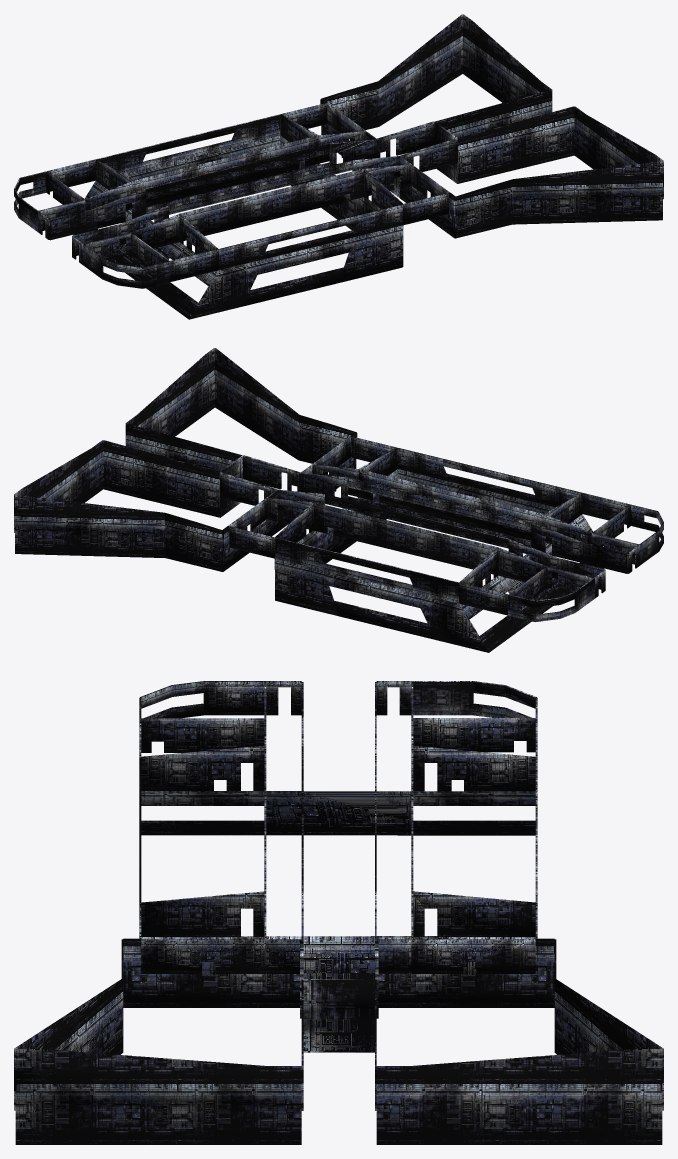
File: mothershipwalls1.glb
3 renders of one model, top to bottom at view 1: azimuth 30°, elevation 25°; view 2: azimuth 150°, elevation 25°; view 3: azimuth 270°, elevation 25°, orthographic. The views are drawn at different scales.
Visible parts, largest first — view 1: Interiorwalls2-col, Interiorwalls2-col.001, Interiorwalls2-col.004, Interiorwalls2-col.003; view 2: Interiorwalls2-col, Interiorwalls2-col.001, Interiorwalls2-col.003, Interiorwalls2-col.004; view 3: Interiorwalls2-col, Interiorwalls2-col.001, Interiorwalls2-col.004, Interiorwalls2-col.003.
Boxes of the visible parts, left/top/right/bottom form: Interiorwalls2-col: left=14, top=14, right=663, bottom=319; Interiorwalls2-col.001: left=321, top=124, right=455, bottom=238; Interiorwalls2-col.004: left=411, top=164, right=449, bottom=196; Interiorwalls2-col.003: left=327, top=103, right=365, bottom=141; Interiorwalls2-col: left=14, top=348, right=663, bottom=652; Interiorwalls2-col.001: left=222, top=457, right=356, bottom=571; Interiorwalls2-col.003: left=228, top=498, right=266, bottom=530; Interiorwalls2-col.004: left=311, top=436, right=350, bottom=475; Interiorwalls2-col: left=14, top=681, right=663, bottom=1144; Interiorwalls2-col.001: left=123, top=973, right=554, bottom=1007; Interiorwalls2-col.004: left=141, top=939, right=266, bottom=973; Interiorwalls2-col.003: left=411, top=939, right=535, bottom=973.
Size of the model in its own units: 150 by 22.93 by 104.
Materials: 1 (1 with a texture image).
